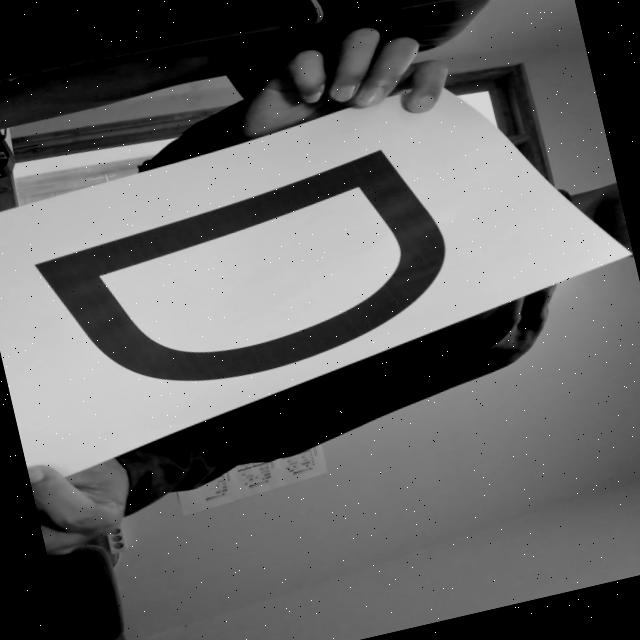d: (18, 127, 470, 426)
